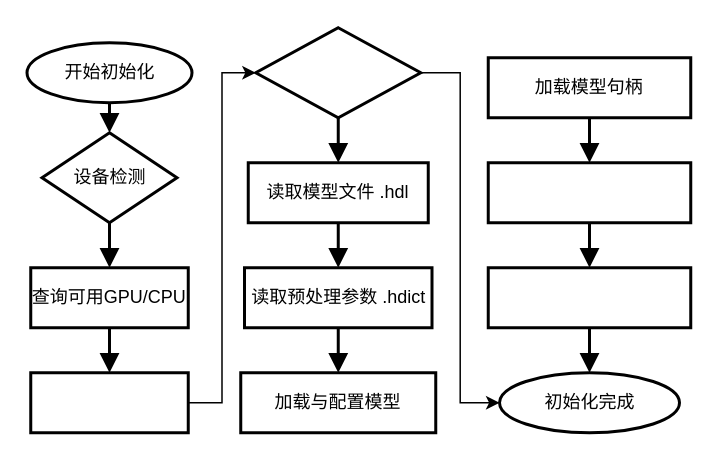
The diagram is 719 pixels wide and 459 high, and some of its shapes have lost their labels. The centre of each missing label's shape, as x and y in pixels:
获取模型信息: pixel 589 297
设置推理参数: pixel 589 192
设置文件路径: pixel 338 72
选择最优设备: pixel 108 402
